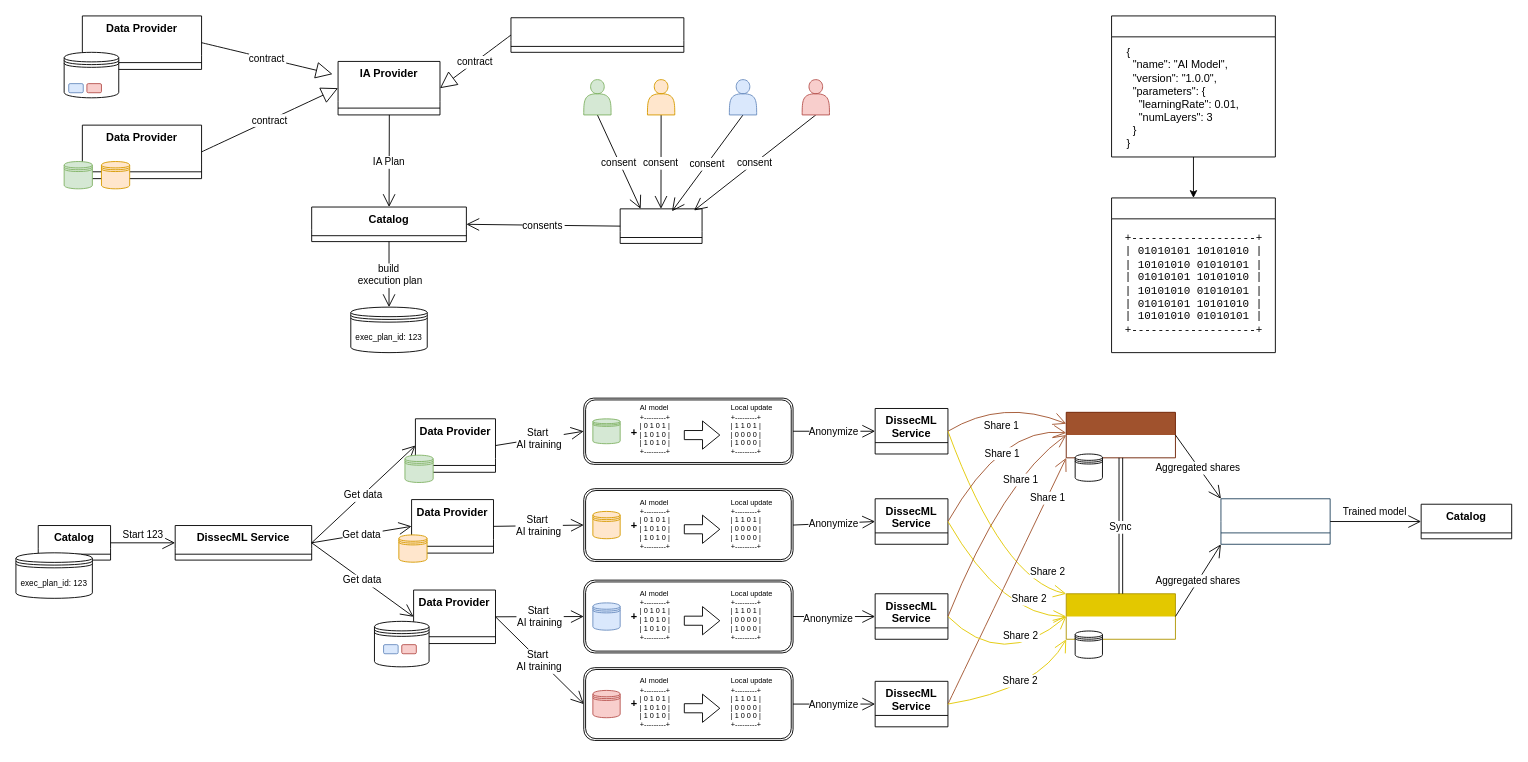
Image size: 1528x762. Some labels were removed from this diagram. Each missing label, with the box of its shape:
AI Model: (1111, 197, 1275, 353)
AI training plan: (1111, 15, 1275, 157)
Data Aggregator 1: (1065, 411, 1175, 458)
Data Aggregator 2: (1065, 593, 1175, 639)
DissecML Service Provider: (510, 17, 684, 52)
Main Data Aggregator: (1220, 498, 1330, 544)
PDI: (619, 208, 702, 243)
